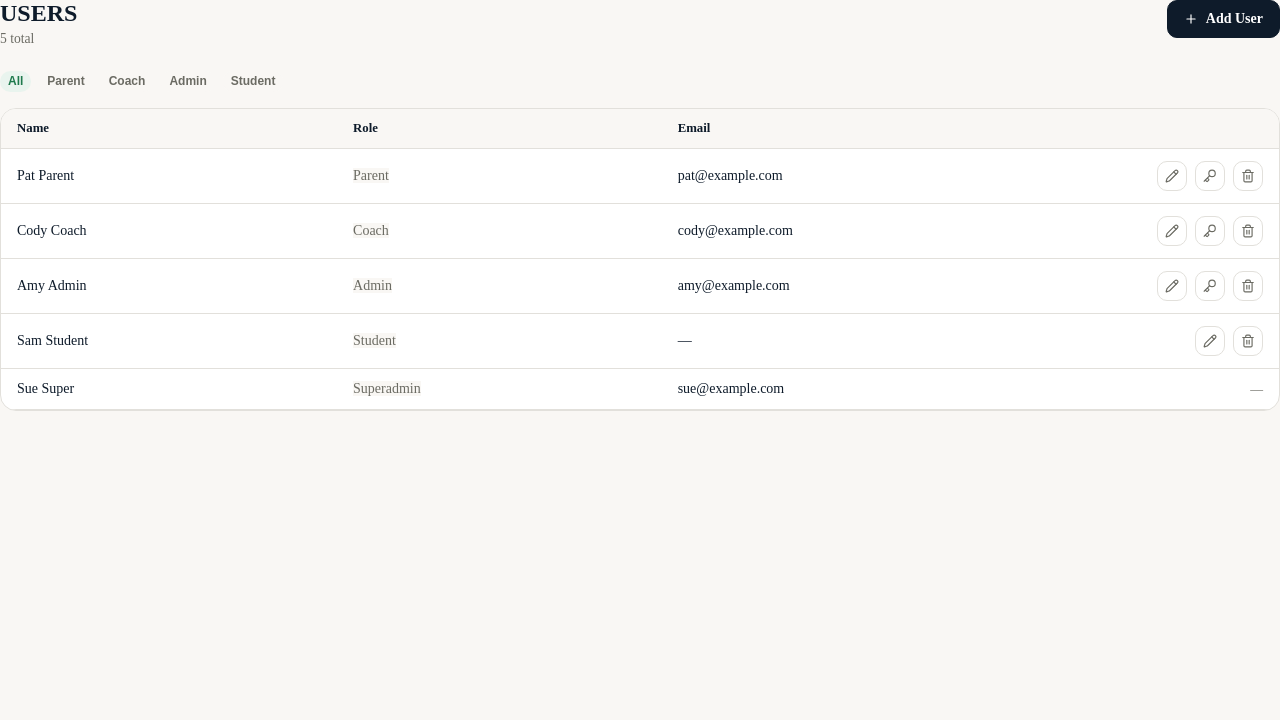
Scenario: UsersPage › Create › shows email+password for a login-capable role and excludes superadmin from the role dropdown for an admin
Check: the text "Pat Parent" is shown, box [1,148,337,203]
Click the button "Add User". click: x=1223, y=19
box: [1167,0,1279,38]
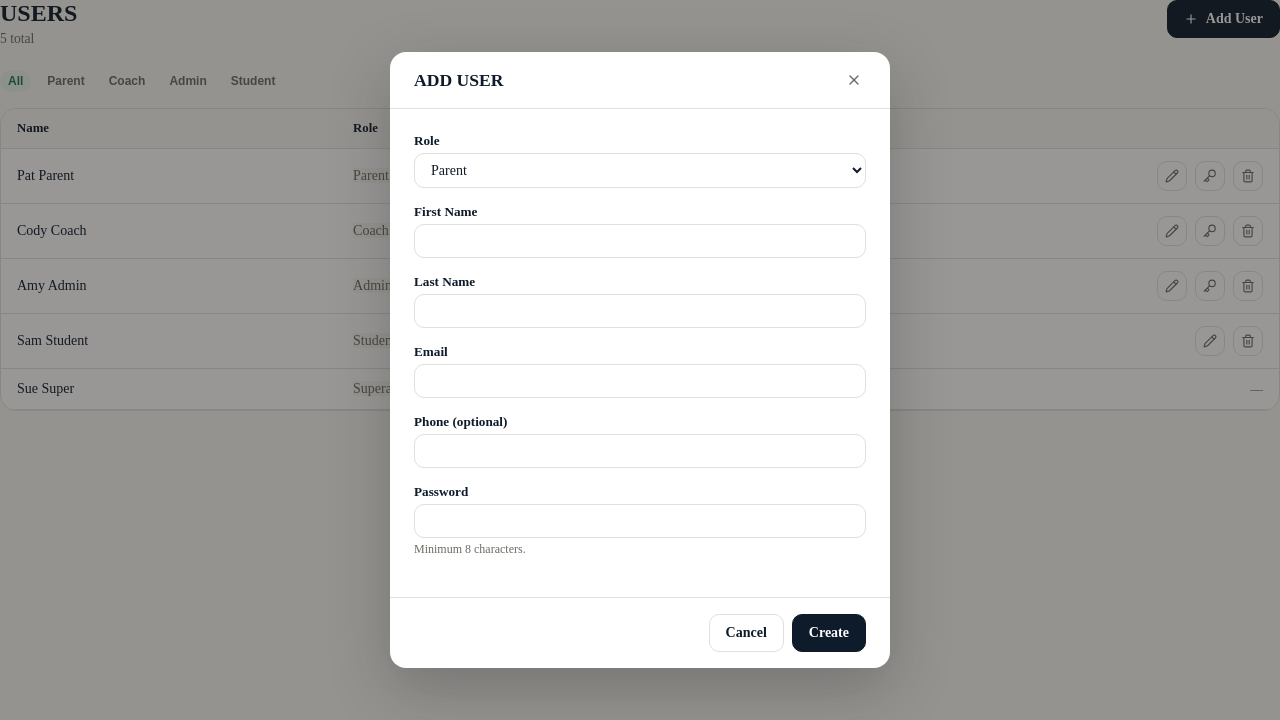
Check: the password field labelled "Password" is shown, box [414,504,866,538]
